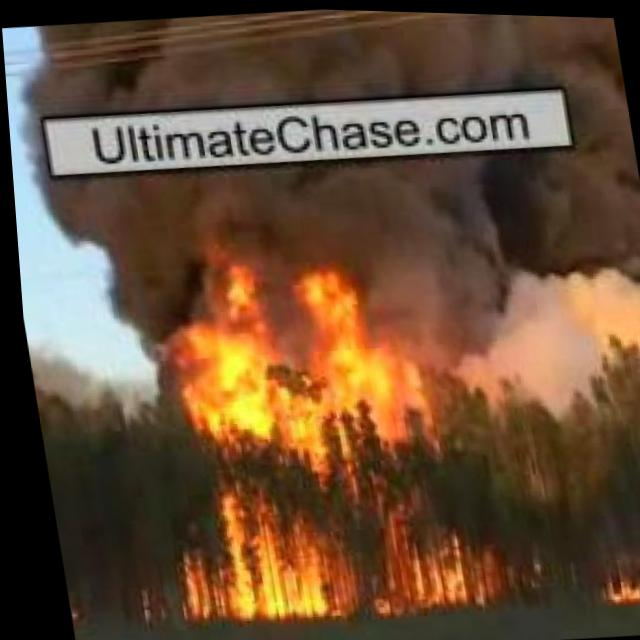Fire: (115, 223, 499, 628), (575, 546, 640, 601)
